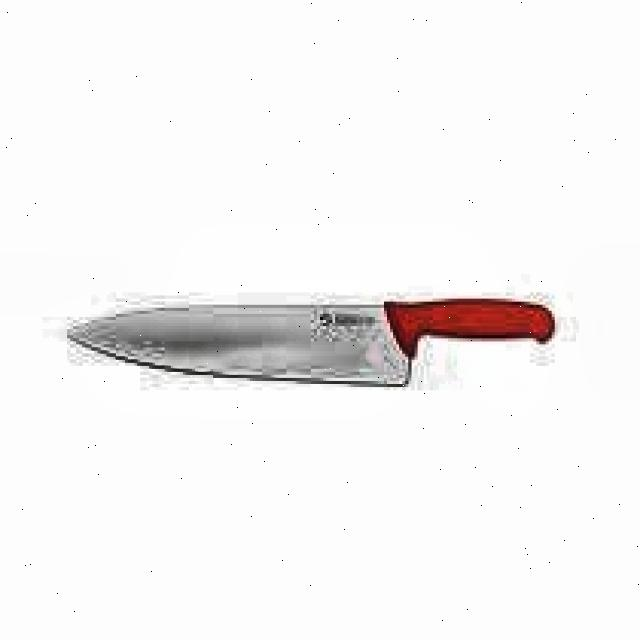knife: (67, 300, 557, 388)
